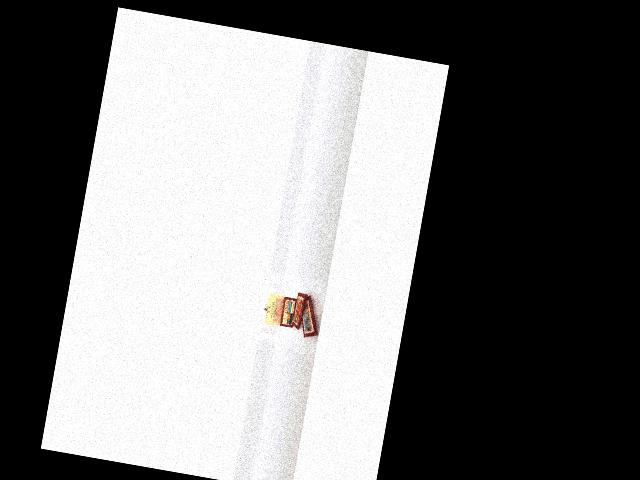chocolate: (294, 292, 327, 348)
